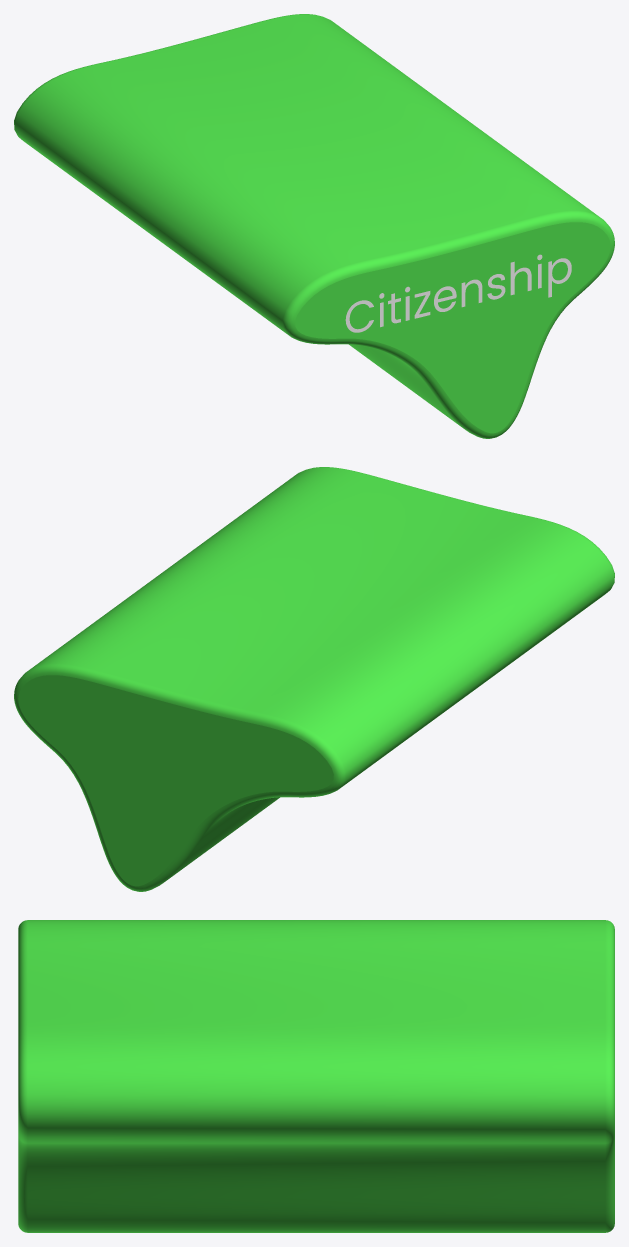
The model's file is top.gltf.
3 renders of one model, top to bottom at view 1: azimuth 30°, elevation 25°; view 2: azimuth 150°, elevation 25°; view 3: azimuth 270°, elevation 25°, orthographic. The views are drawn at different scales.
Visible parts, largest first — view 1: Green, Text 4; view 2: Green; view 3: Green.
Part boxes in pixels (x1=…): Green: x1=14, y1=14, x2=614, y2=438; Text 4: x1=345, y1=254, x2=571, y2=332; Green: x1=14, y1=467, x2=614, y2=891; Green: x1=18, y1=920, x2=614, y2=1232.
Bounding box in the file's own units: 0.133 × 0.0807 × 0.1938.
